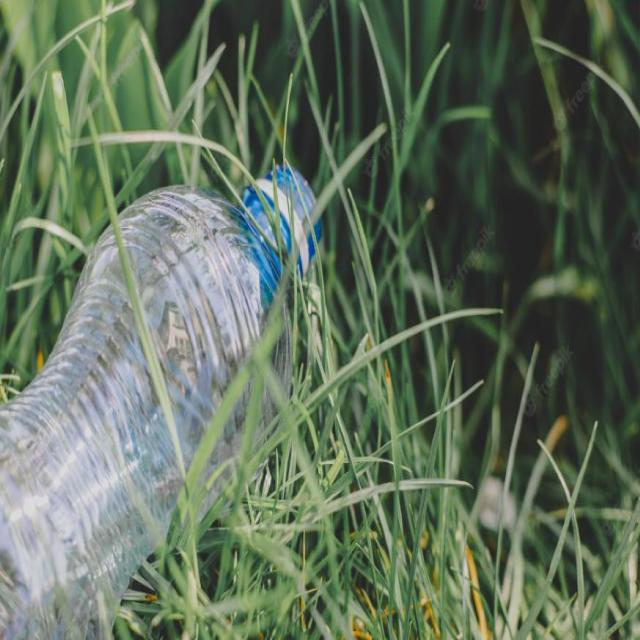bottle: (9, 151, 330, 633)
